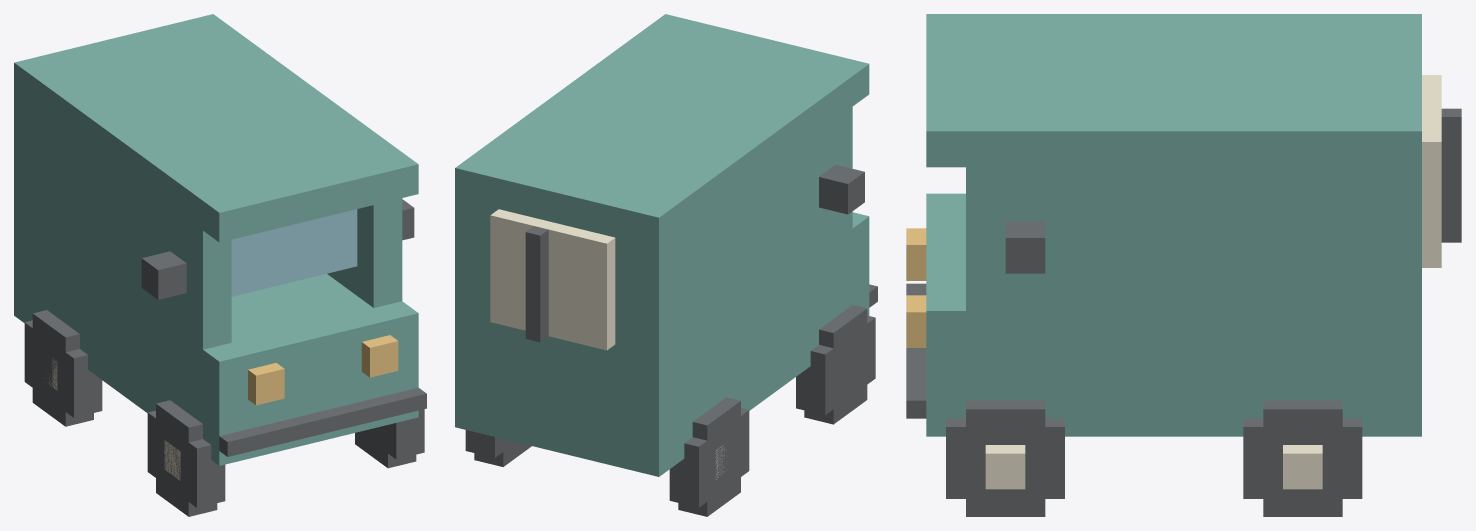
The model's file is pocket-borough-delivery-van__279.glb.
3 views of the same model, side by side, from view 1: azimuth 30°, elevation 25°; view 2: azimuth 150°, elevation 25°; view 3: azimuth 270°, elevation 25° (orthographic). The views are drawn at different scales.
Visible parts, largest first — view 1: pocket-borough-delivery-van; view 2: pocket-borough-delivery-van; view 3: pocket-borough-delivery-van.
Part boxes in pixels (x1,y1,x2,y2): pocket-borough-delivery-van: (14, 14, 426, 516); pocket-borough-delivery-van: (455, 14, 877, 516); pocket-borough-delivery-van: (906, 14, 1461, 516).
Bounding box in the file's own units: 2.25 × 2.62 × 3.5.
